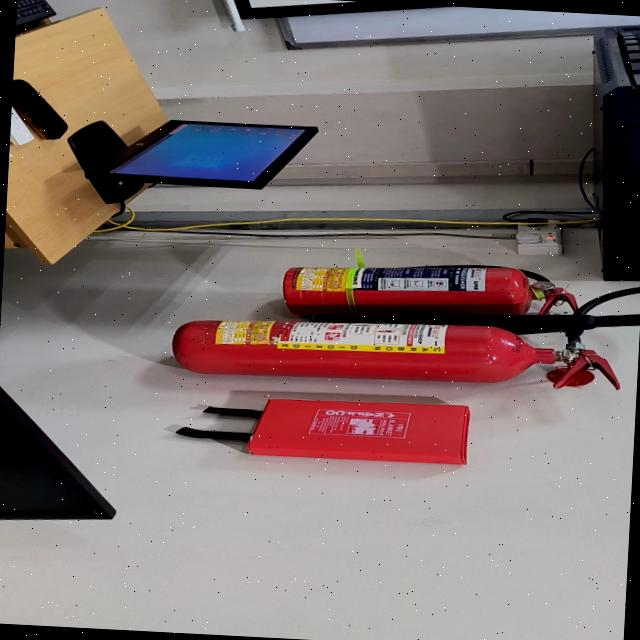Fire Extinguisher: (171, 321, 578, 383), (282, 266, 534, 315)
Keyboard: (15, 0, 55, 26)
Monitor: (67, 120, 317, 217), (0, 386, 115, 520)
